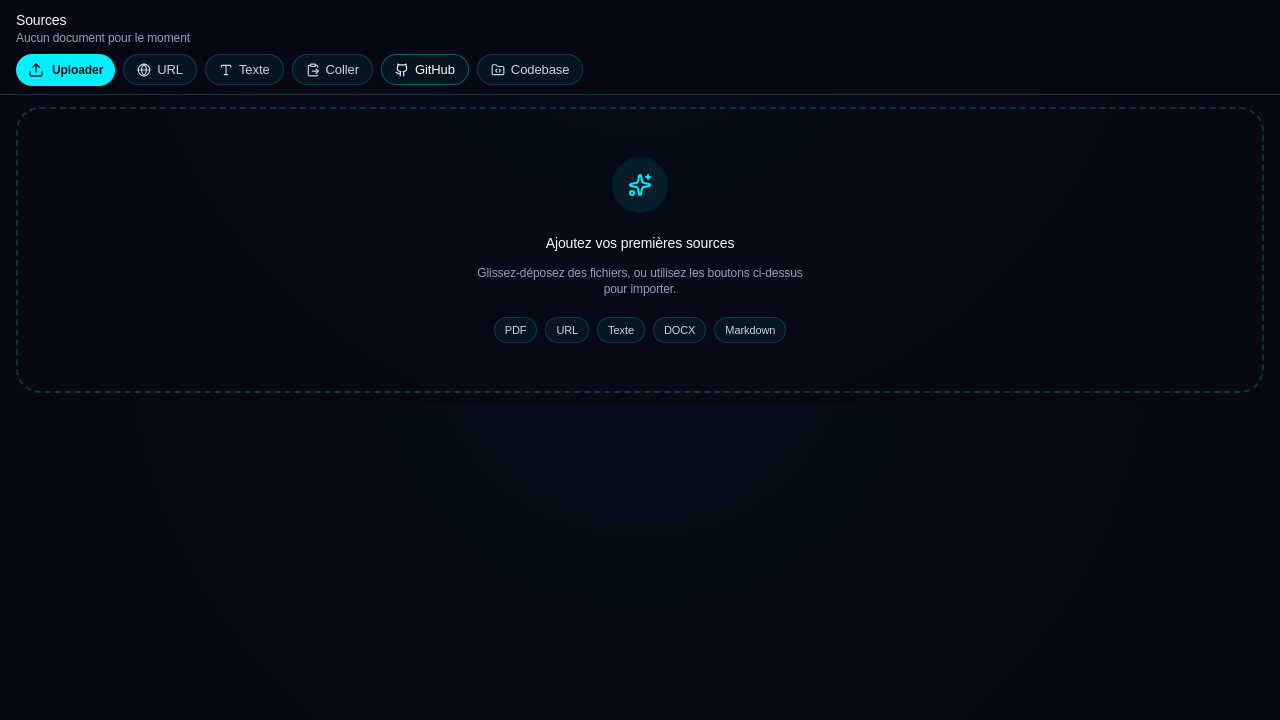
SourcePanel — ajout de source (caractérisation) › ajoute une source par URL et rafraîchit la liste
# Ouvrir l'onglet URL.
Click the button "URL" at (160, 70), box top-left (123, 54), bottom-right (197, 85)
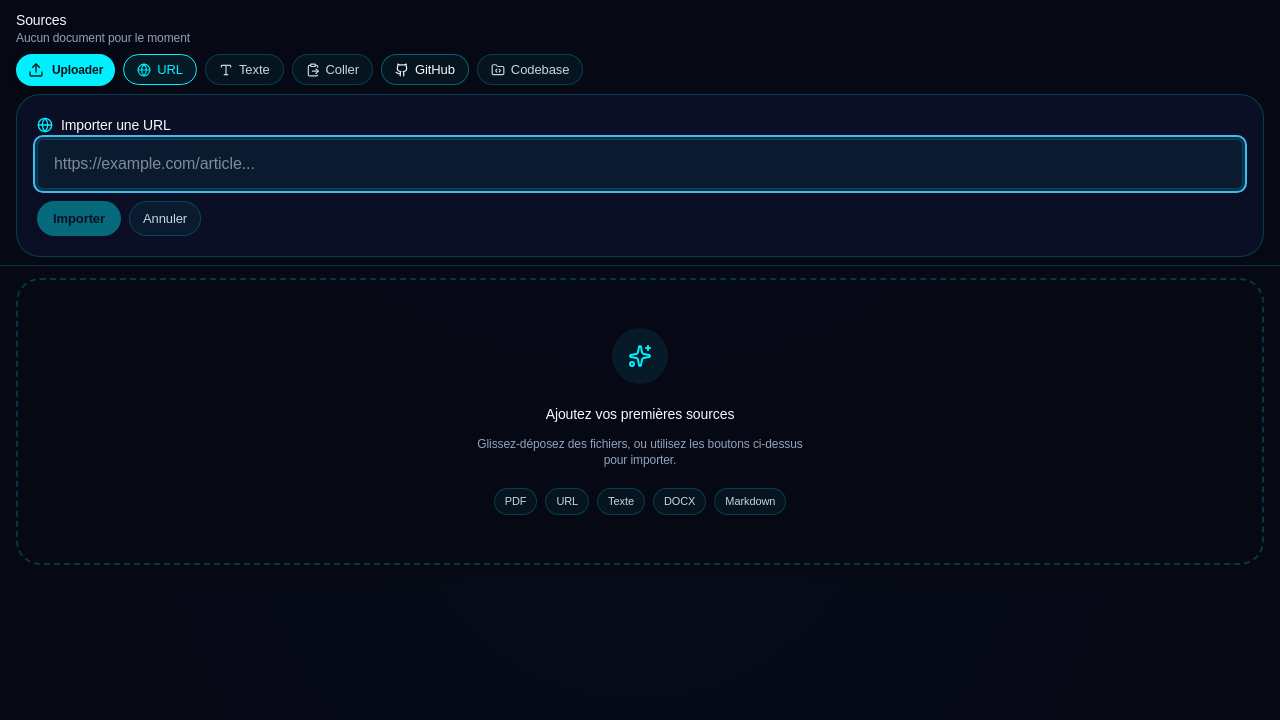
# Saisir une URL puis valider avec Entrée.
Type "https://exemple.fr/mon-article" into the field with placeholder "https://example.com/article..." at (640, 164), box top-left (37, 138), bottom-right (1243, 188)
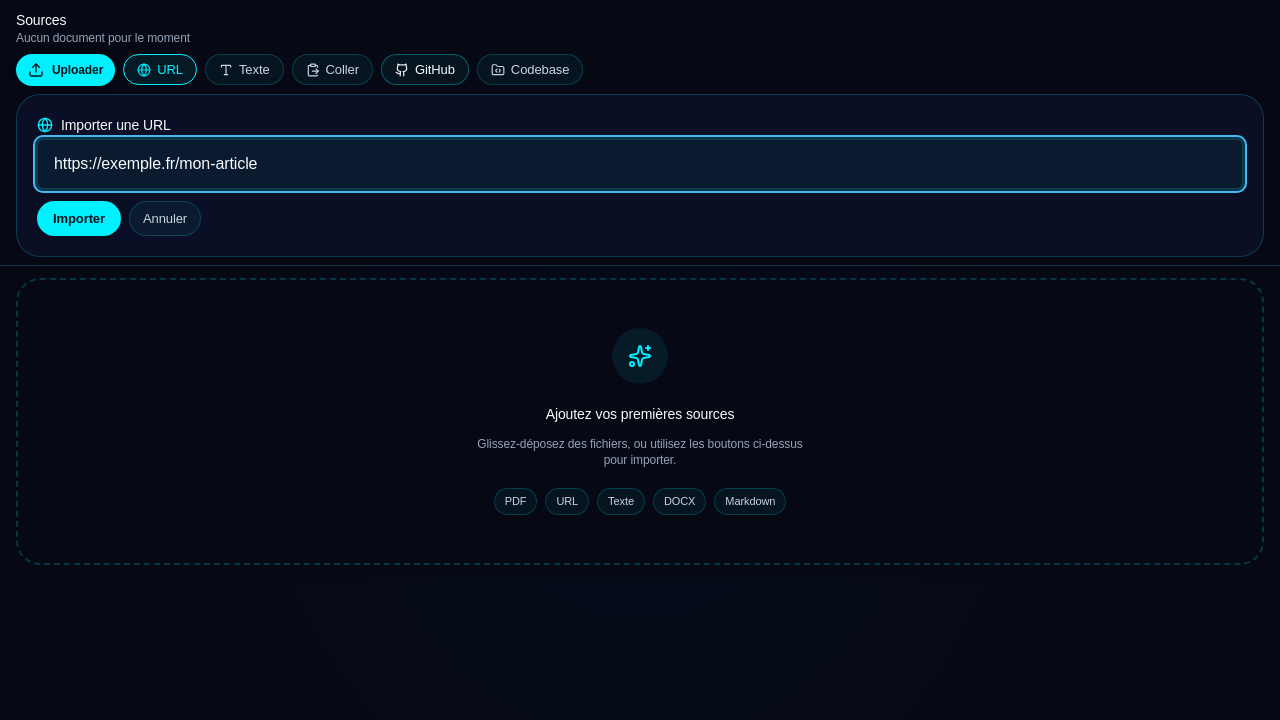
Press Enter
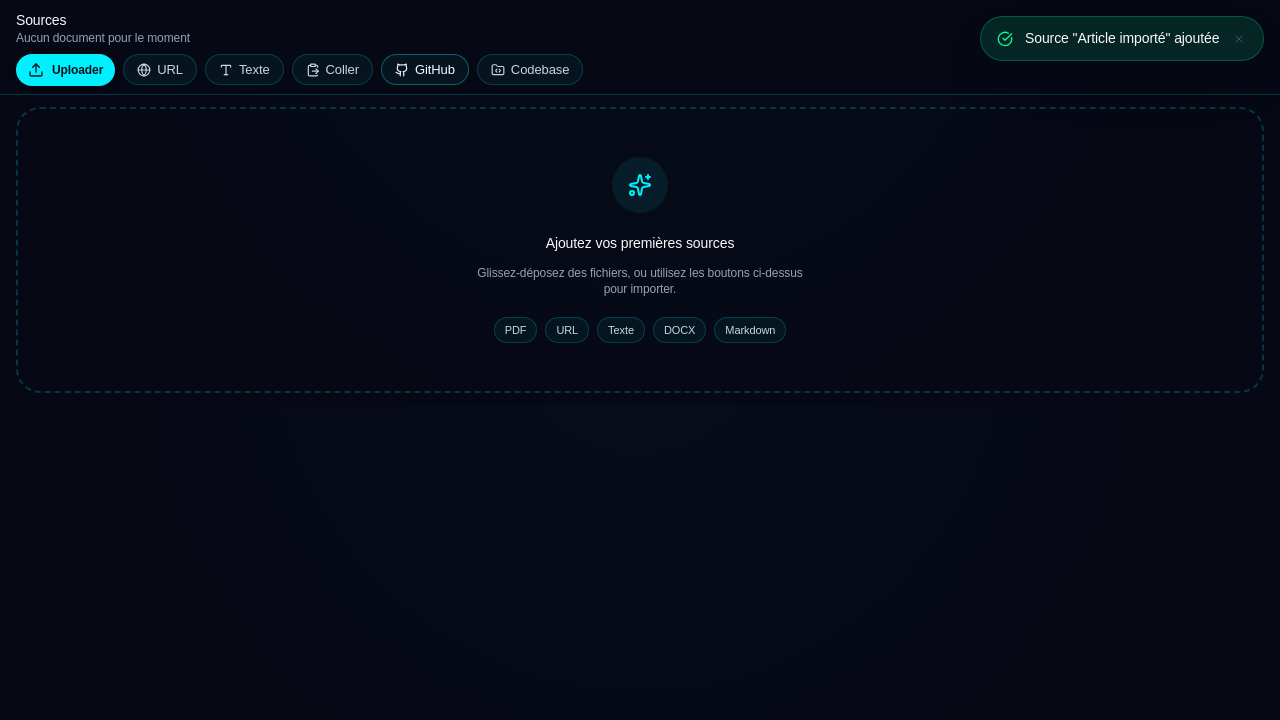
Expected: the text "Source \"Article importé\" ajoutée" is shown, top-left (1025, 29), bottom-right (1219, 48)
